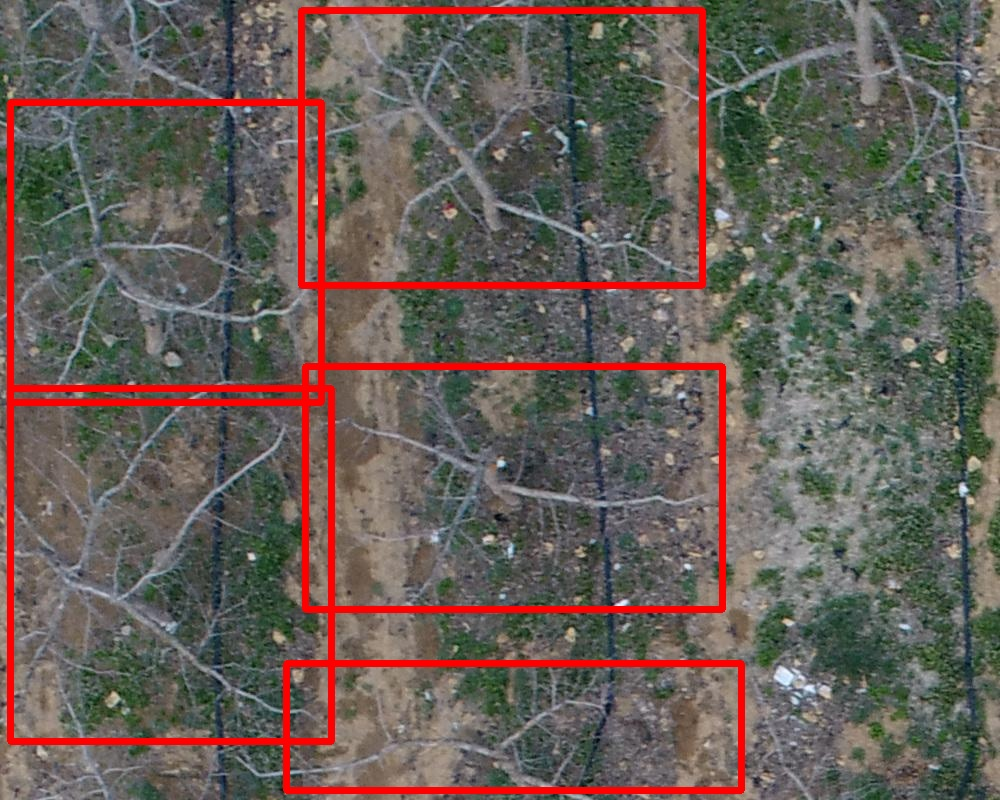apple: (10, 388, 331, 741), (301, 10, 702, 285), (305, 366, 722, 609), (10, 102, 321, 402), (286, 663, 741, 790)
